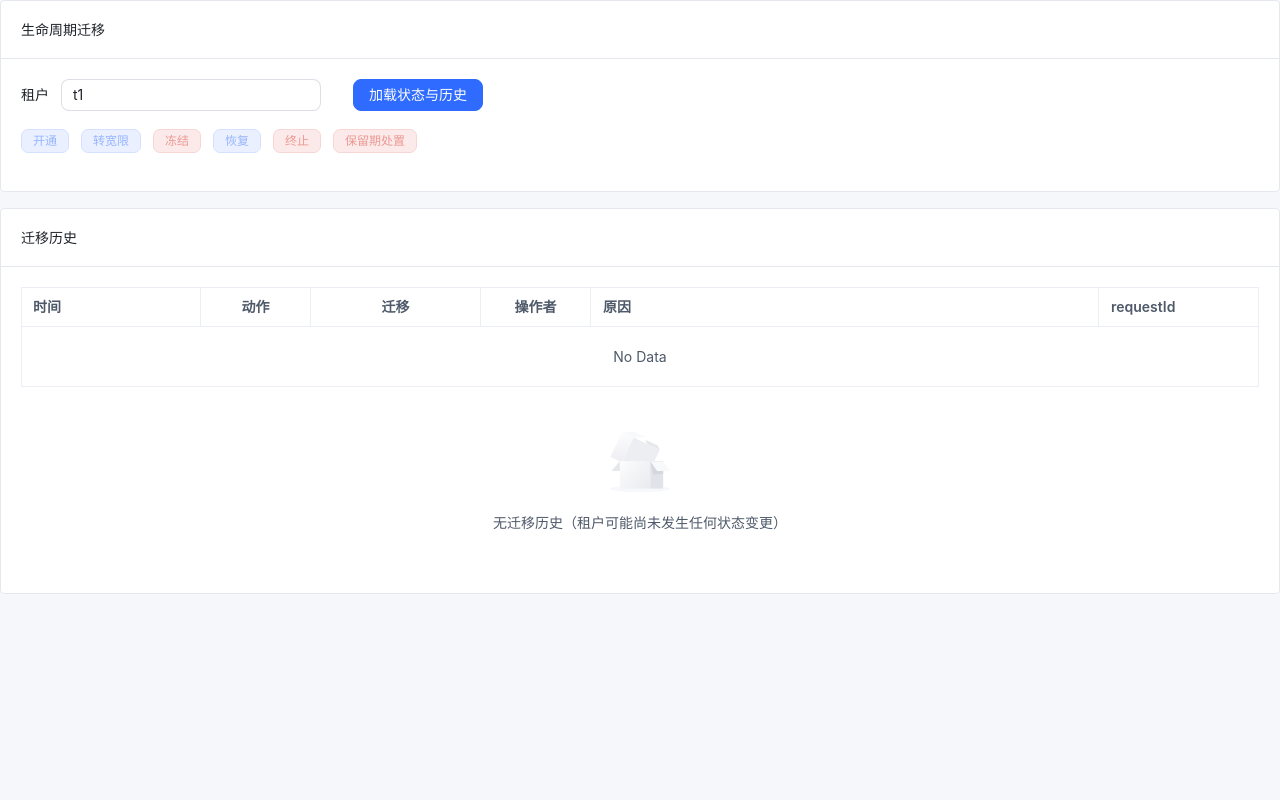
Test: 生命周期页（M14 B1 正确性护栏） › 真实状态驱动：active 租户允许按钮可点、非法动作禁用并显示状态（FR-14-03）
The image size is (1280, 800).
What coordinates should you click on to do the following:
click the button "加载状态与历史"
I would click on:
 (418, 95)
Its box is [353,79,483,111].
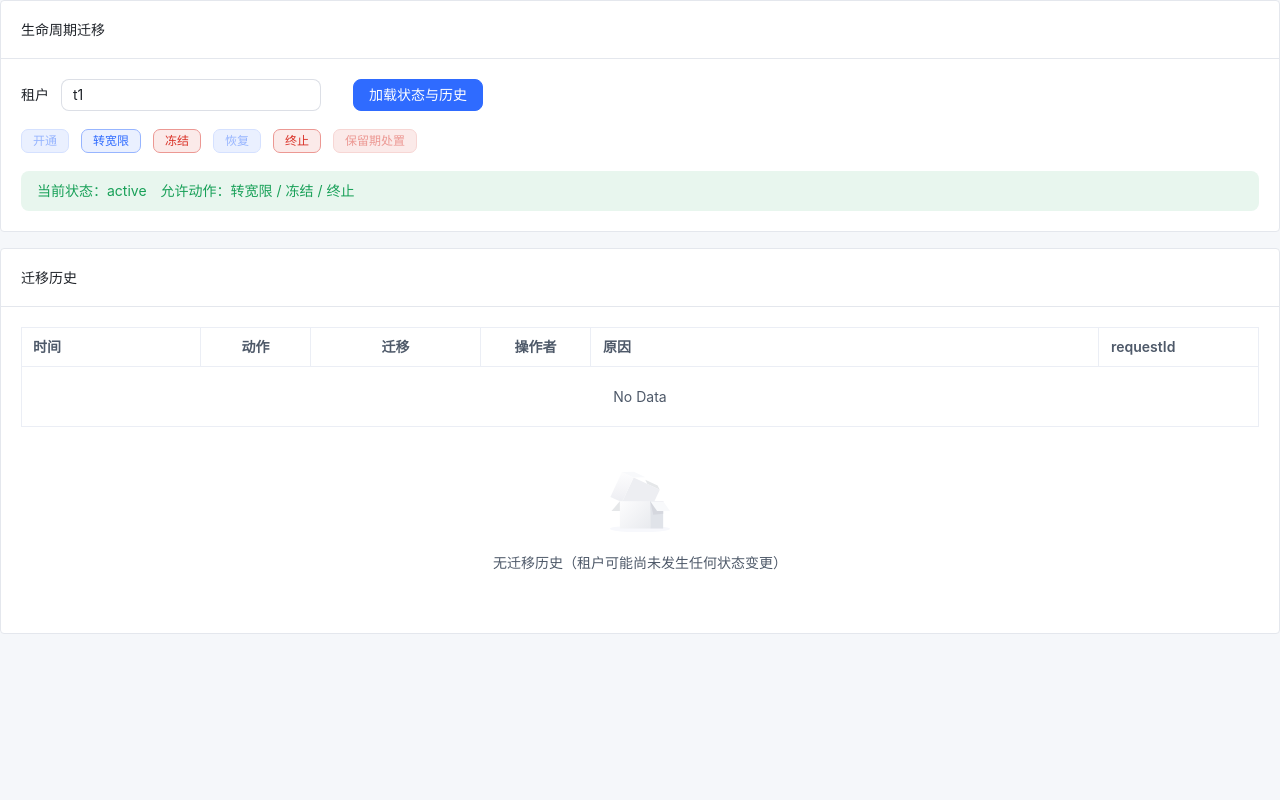
Expected: the button "开通" is disabled, [21,129,69,153]
Result: the text "当前状态：active" is shown at [37,182,354,199]
Result: the button "冻结" is enabled at [153,129,201,153]
